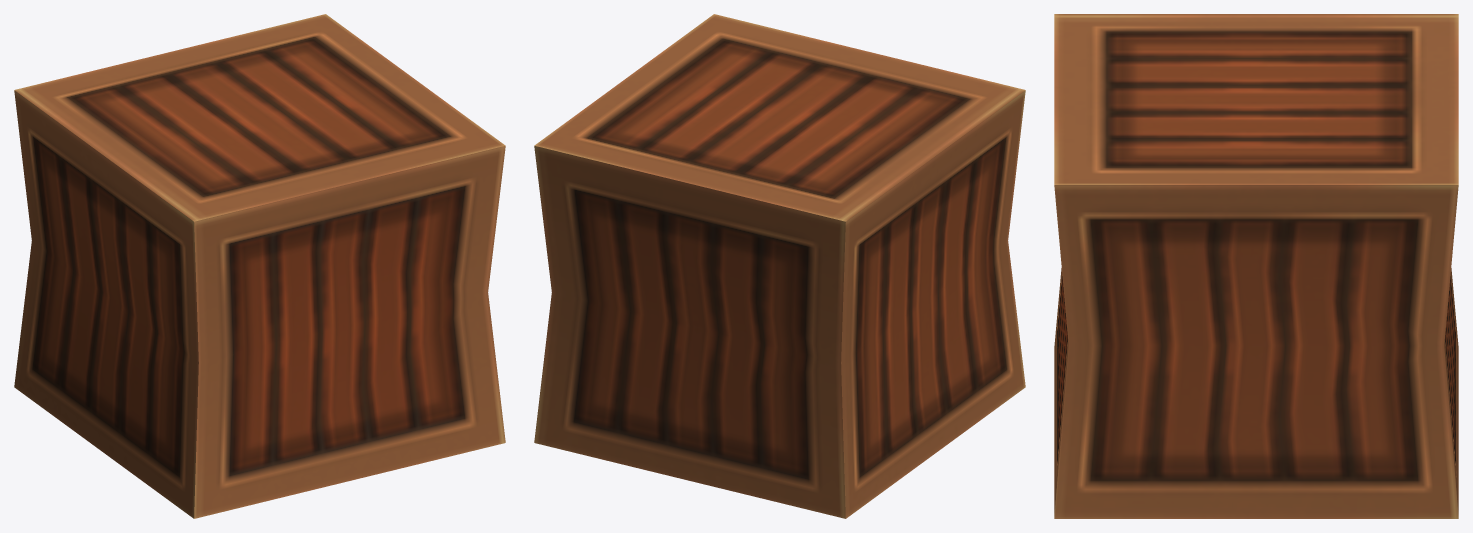
File: Crate.FBX
3 renders of one model, left to right at view 1: azimuth 30°, elevation 25°; view 2: azimuth 150°, elevation 25°; view 3: azimuth 270°, elevation 25°, orthographic. The views are drawn at different scales.
Parts seen in each view (by area): view 1: Crate; view 2: Crate; view 3: Crate.
Boxes of the visible parts, left/top/right/bottom form: Crate: left=14, top=14, right=505, bottom=518; Crate: left=534, top=14, right=1025, bottom=518; Crate: left=1054, top=14, right=1458, bottom=518.
Bounding box in the file's own units: 49.82 × 45.4 × 49.82.
